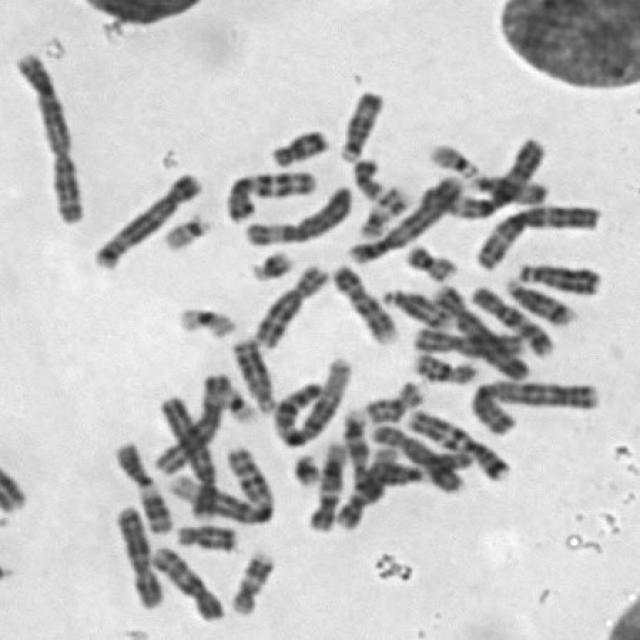A1: (163, 440, 275, 524), (266, 349, 355, 449)
A2: (9, 45, 90, 226), (465, 373, 603, 438)
A3: (428, 131, 547, 219), (469, 196, 606, 271)
B4: (424, 277, 532, 384), (151, 389, 222, 522)
B5: (88, 166, 205, 270), (341, 170, 466, 266)
C10: (464, 278, 558, 359), (146, 539, 230, 623)
C11: (108, 436, 177, 536), (362, 441, 472, 490)
C12: (329, 442, 401, 531), (304, 436, 349, 532)
C6: (150, 368, 231, 477), (238, 178, 355, 248)
C7: (401, 403, 516, 482), (221, 163, 321, 224)
C8: (247, 258, 331, 349), (366, 418, 465, 495)
C9: (326, 258, 401, 346), (336, 404, 376, 491)
D13: (225, 332, 278, 414), (512, 256, 604, 296)
D14: (498, 271, 578, 327), (376, 282, 455, 330)
D15: (332, 83, 388, 163), (463, 168, 552, 207)
E16: (359, 374, 428, 426), (406, 346, 481, 386)
E17: (224, 544, 276, 617), (352, 181, 411, 241)
E18: (264, 122, 332, 168), (171, 517, 241, 553)
F19: (201, 370, 259, 424), (171, 300, 240, 340)
F20: (398, 237, 460, 282), (348, 153, 388, 200)
G21: (244, 242, 296, 284), (286, 448, 324, 488)
G22: (155, 206, 214, 252), (424, 136, 484, 178)
X: (108, 499, 167, 609), (408, 319, 530, 358)
